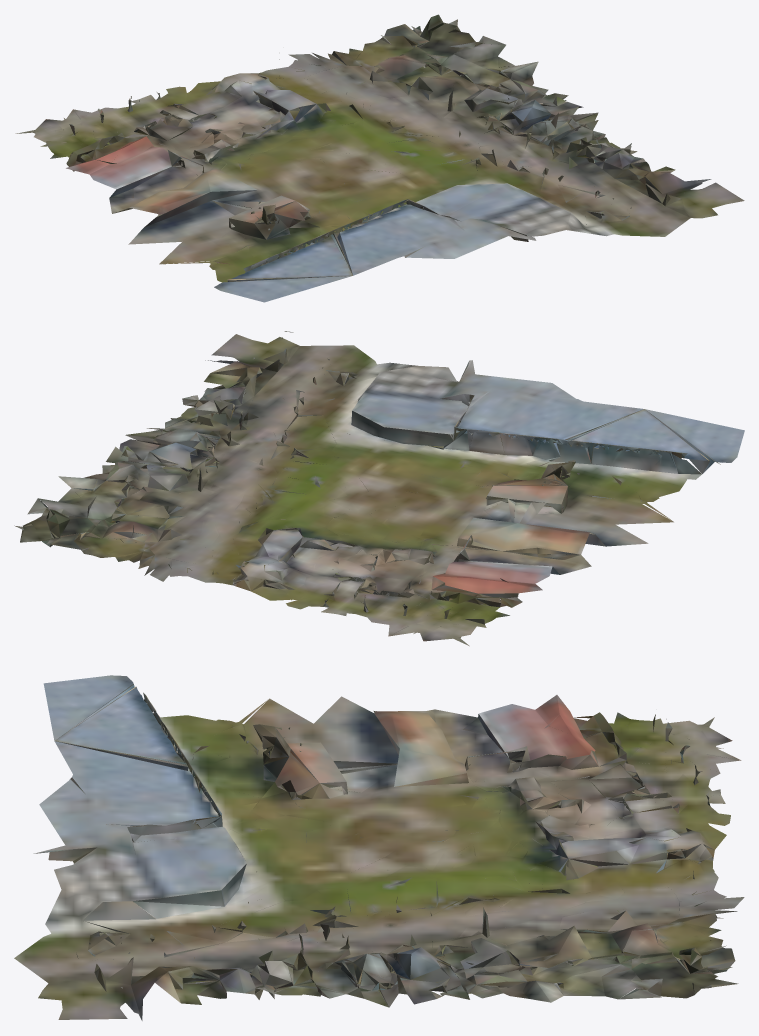
File: Tile_008_013_L15.gltf
3 views of the same model, one above another, from view 1: azimuth 30°, elevation 25°; view 2: azimuth 150°, elevation 25°; view 3: azimuth 270°, elevation 25° (orthographic). The views are drawn at different scales.
Visible parts, largest first — view 1: Tile_+008_+013_L15; view 2: Tile_+008_+013_L15; view 3: Tile_+008_+013_L15.
Part boxes in pixels (x1,y1,x2,y2): Tile_+008_+013_L15: (15, 14, 744, 302); Tile_+008_+013_L15: (14, 331, 744, 646); Tile_+008_+013_L15: (14, 675, 744, 1020).
Bounding box in the file's own units: 241 × 15.83 × 231.
Materials: 1 (1 with a texture image).
